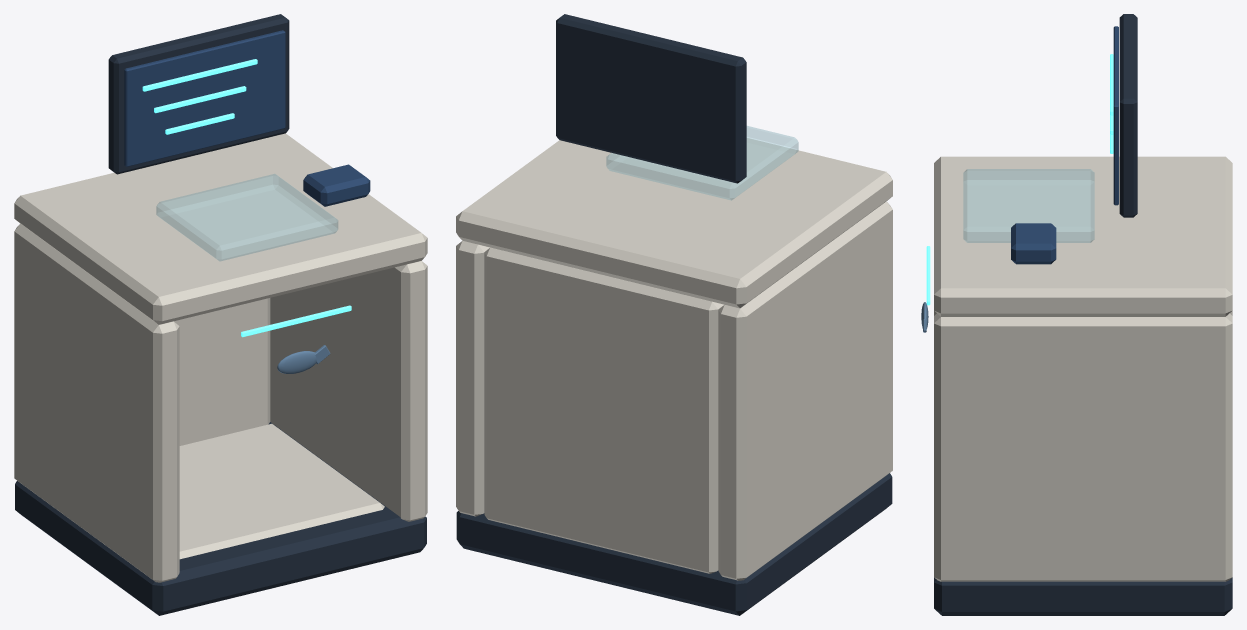
Rendered from campus_05.glb.
3 renders of one model, left to right at view 1: azimuth 30°, elevation 25°; view 2: azimuth 150°, elevation 25°; view 3: azimuth 270°, elevation 25°, orthographic. The views are drawn at different scales.
Visible parts, largest first — view 1: Side (×2), Top, Base, Bottom, Screen, Back, BookScanner, MonitorFrame, CardReader, DisplayLine (×2), StatusLight, WhaleBody; view 2: Back, Side (×2), Top, MonitorFrame, Base, BookScanner; view 3: Side, Top, Base, BookScanner, MonitorFrame, CardReader, Screen.
Boxes of the visible parts, bbox=[...] form: Side (×2): bbox=[14, 223, 427, 582]; Top: bbox=[14, 133, 427, 324]; Base: bbox=[15, 422, 426, 615]; Bottom: bbox=[179, 423, 384, 559]; Screen: bbox=[124, 30, 285, 166]; Back: bbox=[174, 298, 270, 445]; BookScanner: bbox=[156, 174, 338, 261]; MonitorFrame: bbox=[108, 14, 289, 174]; CardReader: bbox=[303, 164, 370, 206]; DisplayLine (×2): bbox=[142, 59, 257, 113]; StatusLight: bbox=[241, 305, 351, 337]; WhaleBody: bbox=[277, 351, 316, 373]; Back: bbox=[484, 247, 723, 573]; Side (×2): bbox=[456, 201, 892, 580]; Top: bbox=[456, 138, 892, 308]; MonitorFrame: bbox=[556, 14, 746, 183]; Base: bbox=[456, 473, 892, 615]; BookScanner: bbox=[606, 126, 798, 200]; Side: bbox=[934, 313, 1232, 581]; Top: bbox=[934, 156, 1232, 316]; Base: bbox=[934, 577, 1232, 615]; BookScanner: bbox=[963, 169, 1094, 242]; MonitorFrame: bbox=[1119, 14, 1137, 217]; CardReader: bbox=[1011, 223, 1056, 264]; Screen: bbox=[1113, 26, 1118, 205].
Bounding box in the file's own units: 0.72 × 1.2 × 0.688.
